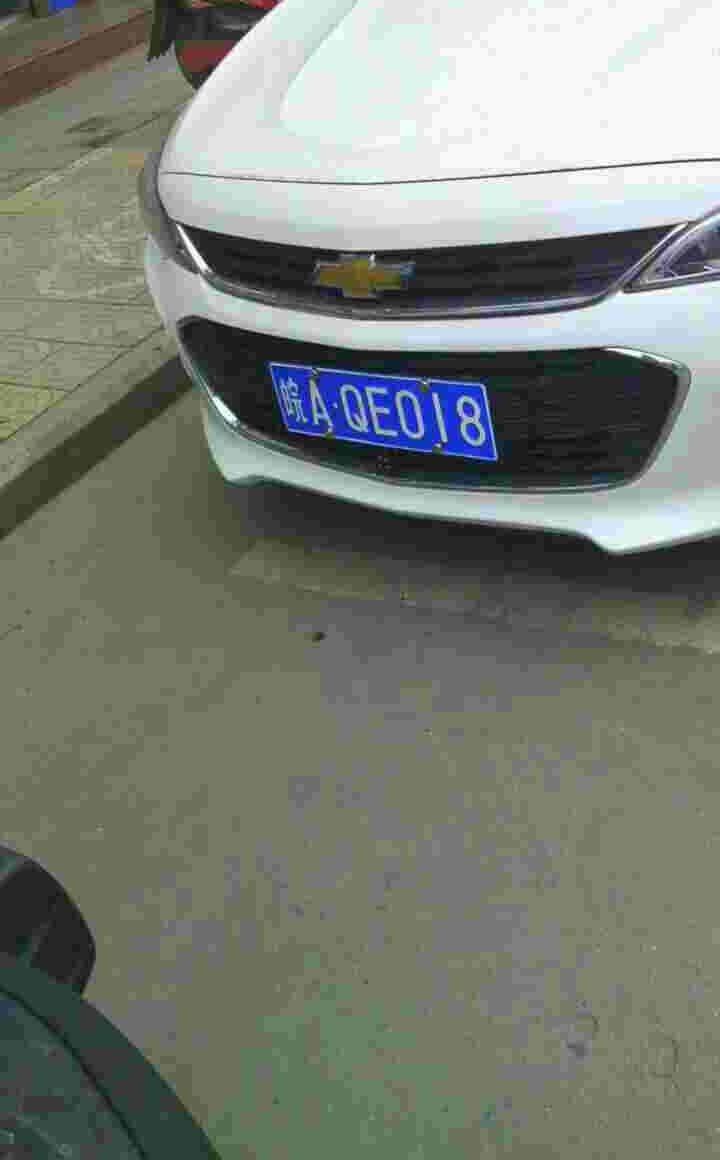license_plate: (276, 361, 503, 458)
